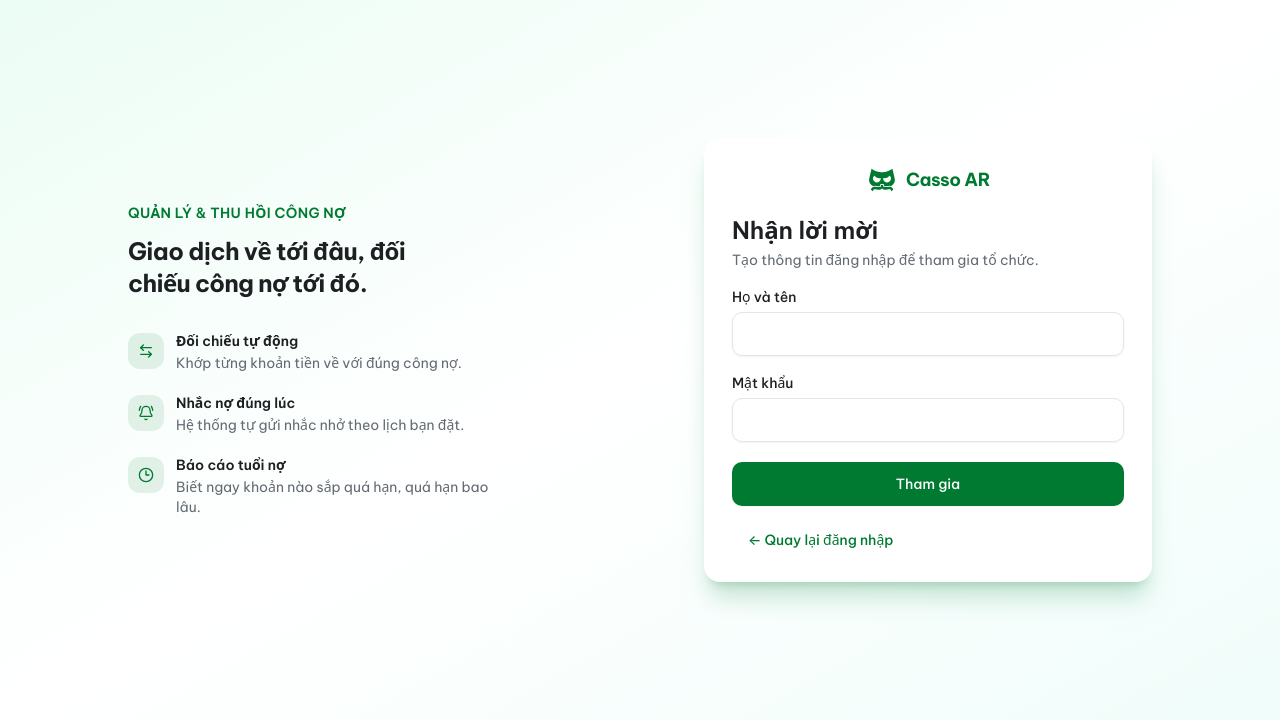
Test: invite acceptance › accepts an invite with the invitee name and password
Type "Invitee Name" into the field labelled "Họ và tên" at (928, 334), box [732, 312, 1124, 356]
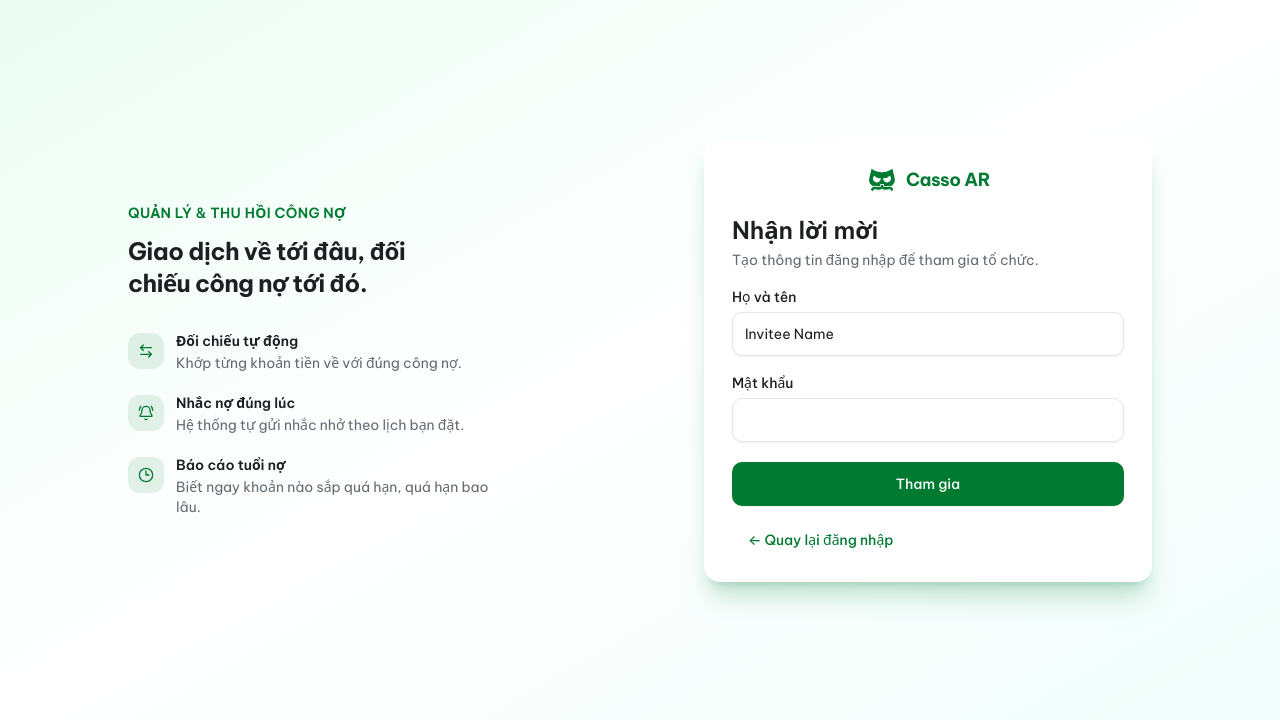
Type "secret123" into the password field labelled "Mật khẩu" at (928, 420), box [732, 398, 1124, 442]
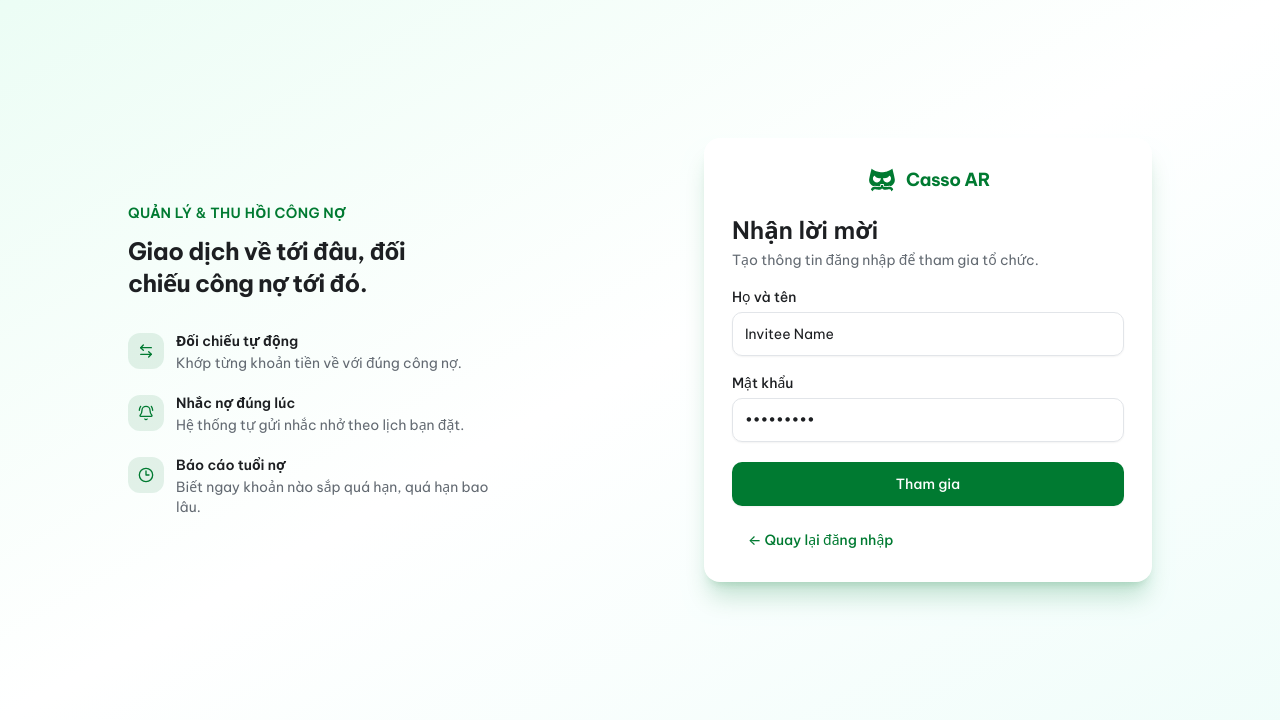
Click the button "Tham gia" at (928, 484), box [732, 462, 1124, 506]
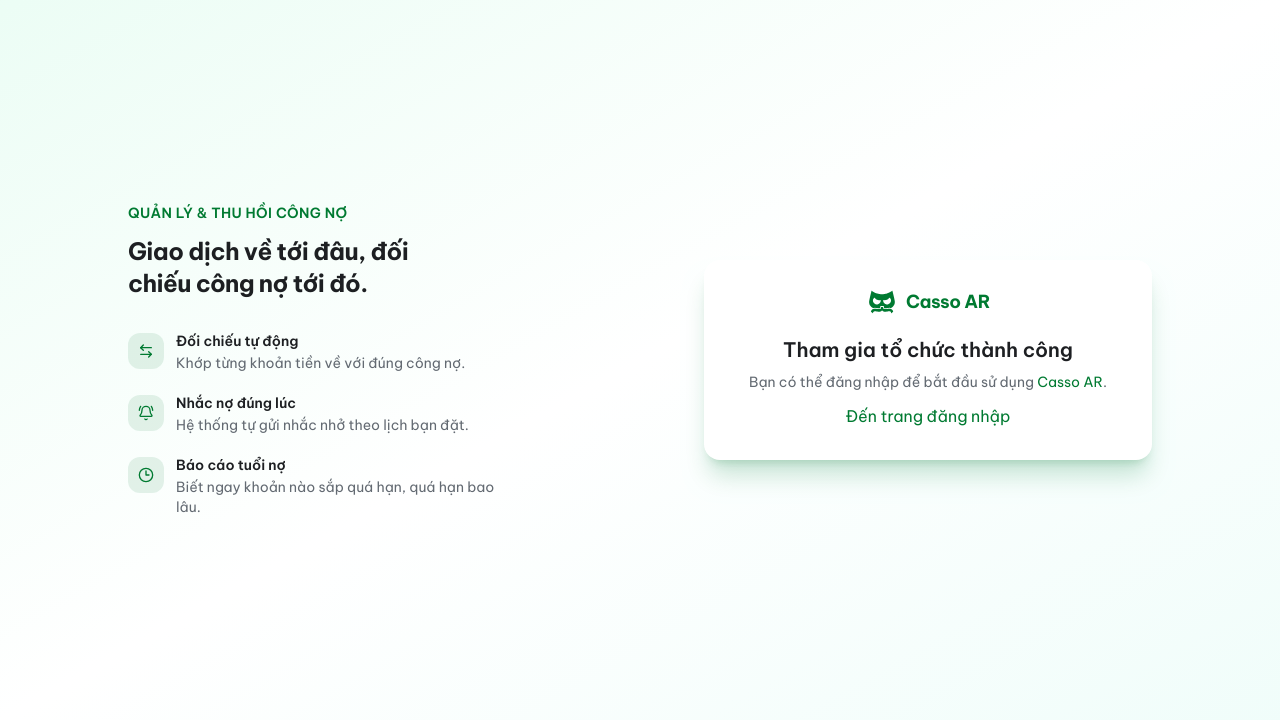
Now the heading "Tham gia tổ chức thành công" is shown, box [783, 337, 1073, 362]
